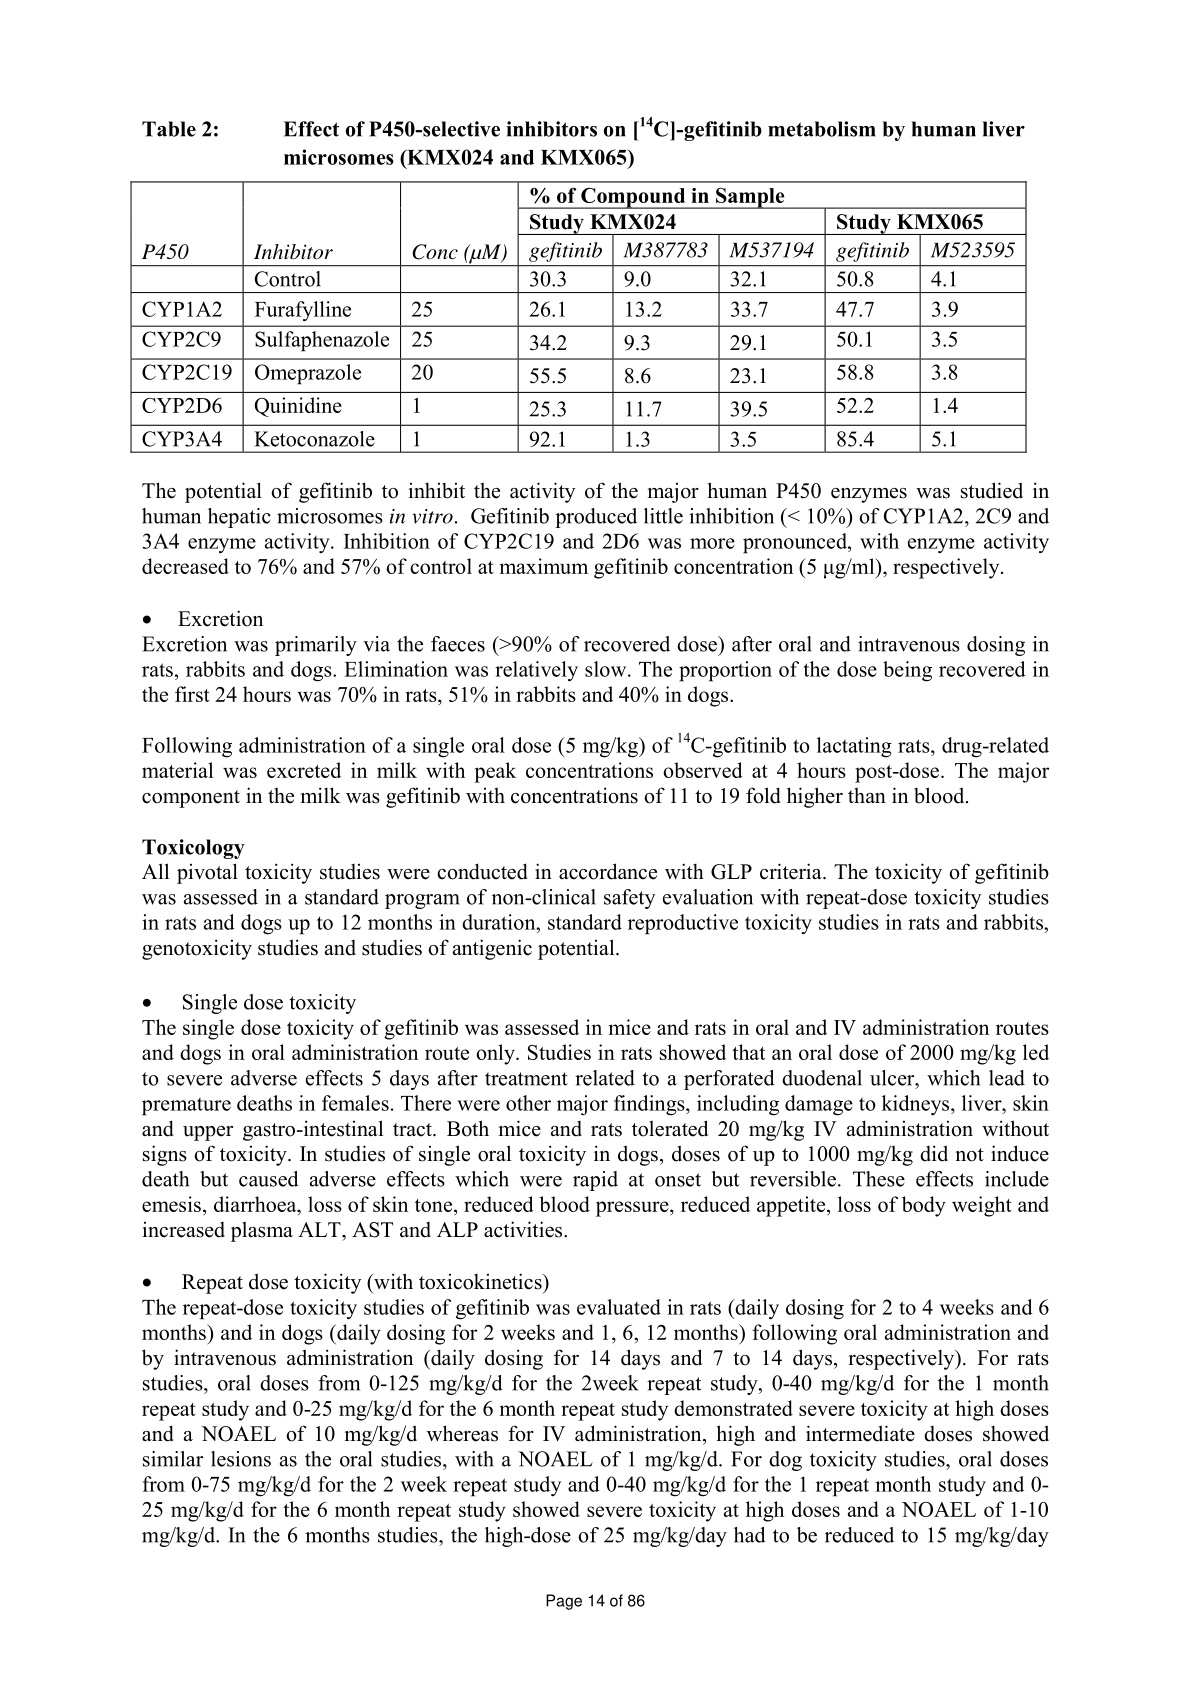merged_cells: (129, 180, 1028, 454)
